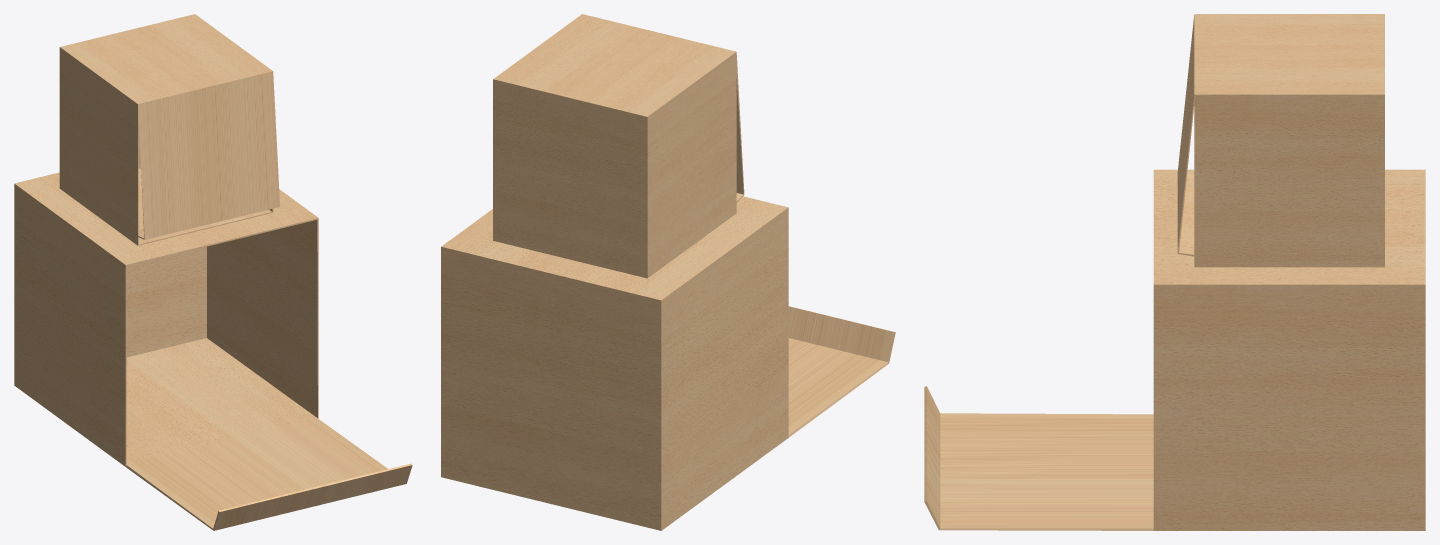
The model's file is envi3.fbx.
3 views of the same model, side by side, from view 1: azimuth 30°, elevation 25°; view 2: azimuth 150°, elevation 25°; view 3: azimuth 270°, elevation 25° (orthographic). The views are drawn at different scales.
Visible parts, largest first — view 1: Cube.007; view 2: Cube.007; view 3: Cube.007.
Part boxes in pixels (x1,y1,x2,y2): Cube.007: (14, 14, 412, 530); Cube.007: (441, 14, 895, 530); Cube.007: (924, 14, 1425, 530).
Size of the model in its own units: 79.89 by 136 by 147.
1 material, 1 textured.
